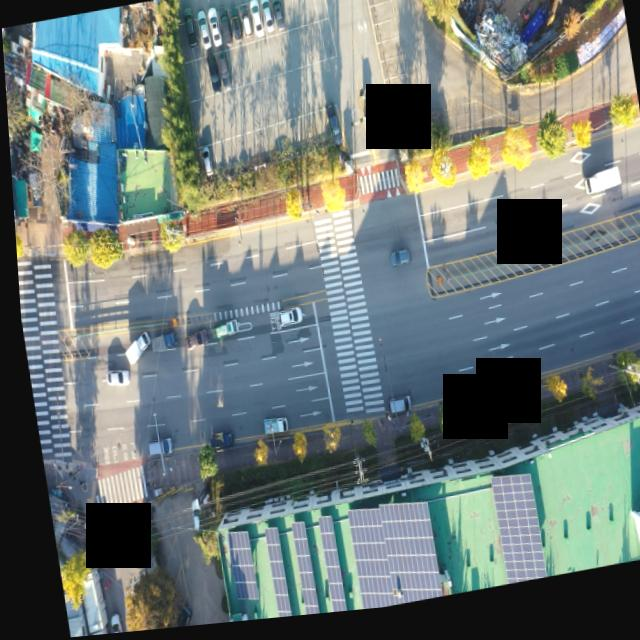car: (84, 528, 102, 570), (323, 112, 339, 156), (160, 604, 185, 630), (203, 58, 218, 100), (215, 8, 230, 50), (140, 435, 167, 456), (181, 11, 195, 51), (249, 1, 263, 41), (180, 501, 195, 535), (236, 8, 251, 42), (207, 11, 220, 50), (216, 54, 229, 93), (101, 367, 125, 388), (379, 402, 403, 423), (194, 13, 207, 51), (272, 311, 296, 331), (258, 0, 271, 36), (226, 13, 240, 45), (268, 0, 281, 34), (384, 252, 406, 272), (182, 332, 204, 351), (197, 149, 209, 182), (98, 613, 113, 635), (119, 525, 130, 553)
medium_truck: (580, 175, 619, 207)
small_truck: (117, 331, 148, 367), (22, 165, 39, 207), (202, 432, 227, 454), (147, 332, 172, 354), (255, 417, 281, 438), (206, 322, 232, 342)
